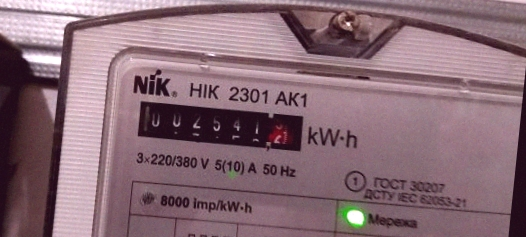0: (147, 106, 162, 128), (168, 106, 183, 128)
1: (249, 113, 262, 137)
2: (188, 107, 205, 131)
4: (229, 111, 242, 133)
5: (208, 109, 223, 134)
6: (270, 131, 283, 144)
screen: (123, 88, 316, 161)
